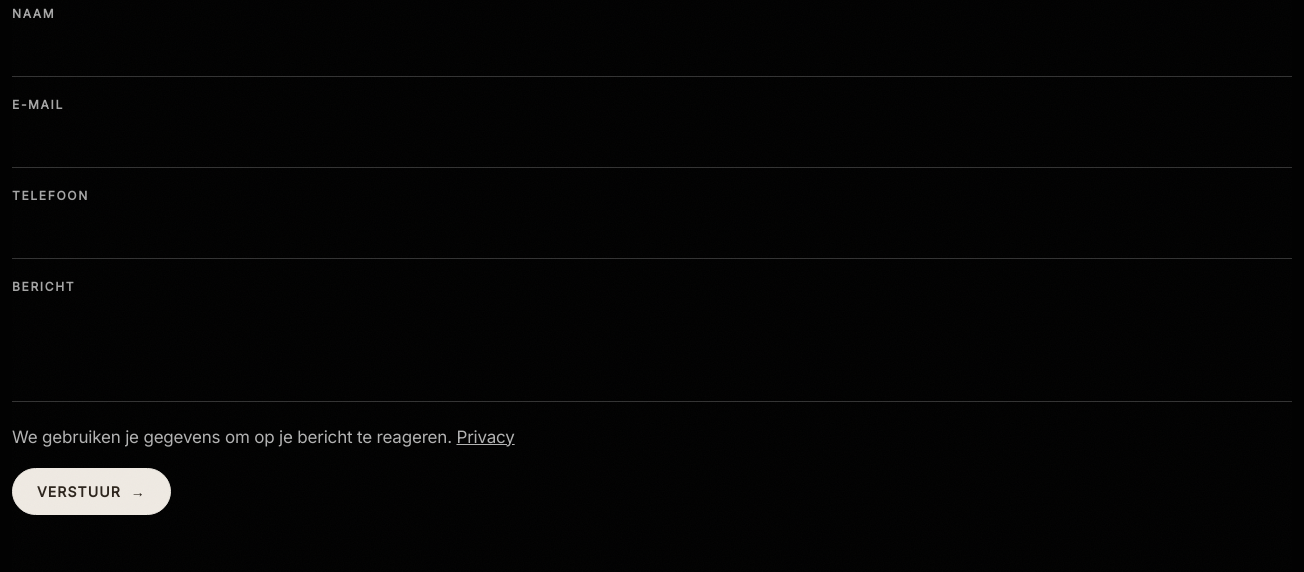
Test case: preserves the entered message and shows an error when delivery fails
Type "Test" into the field labelled "Naam". click: (652, 55)
box: x1=12 y1=34 x2=1292 y2=77
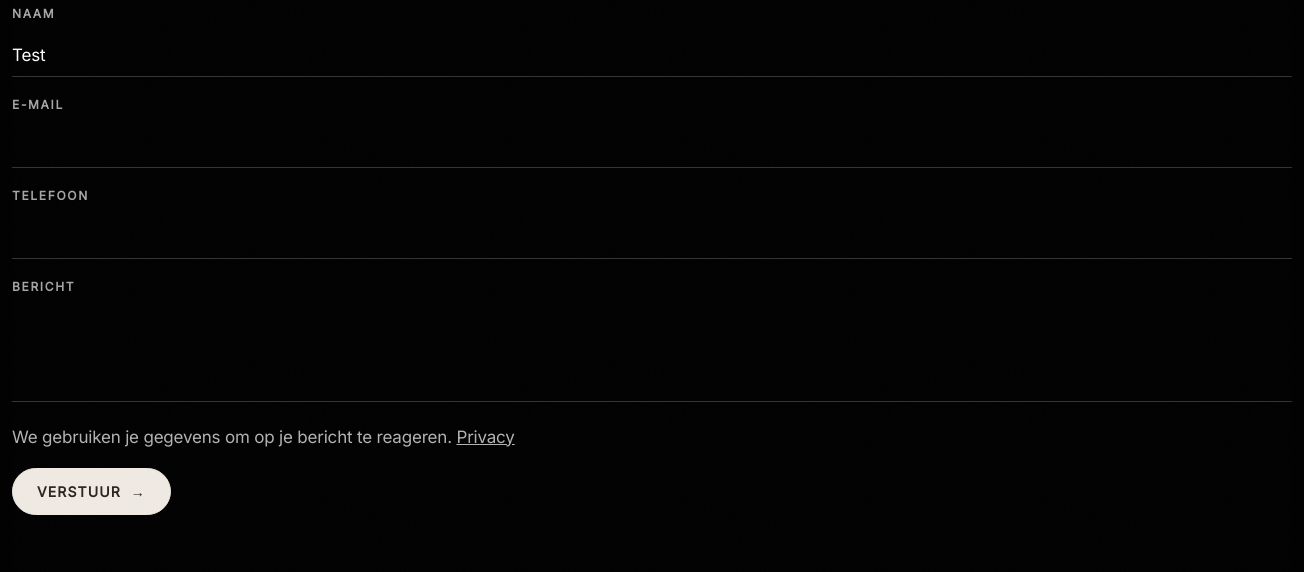
Type "test@example.com" into the field labelled "E-mail". click: (652, 146)
box: x1=12 y1=124 x2=1292 y2=168
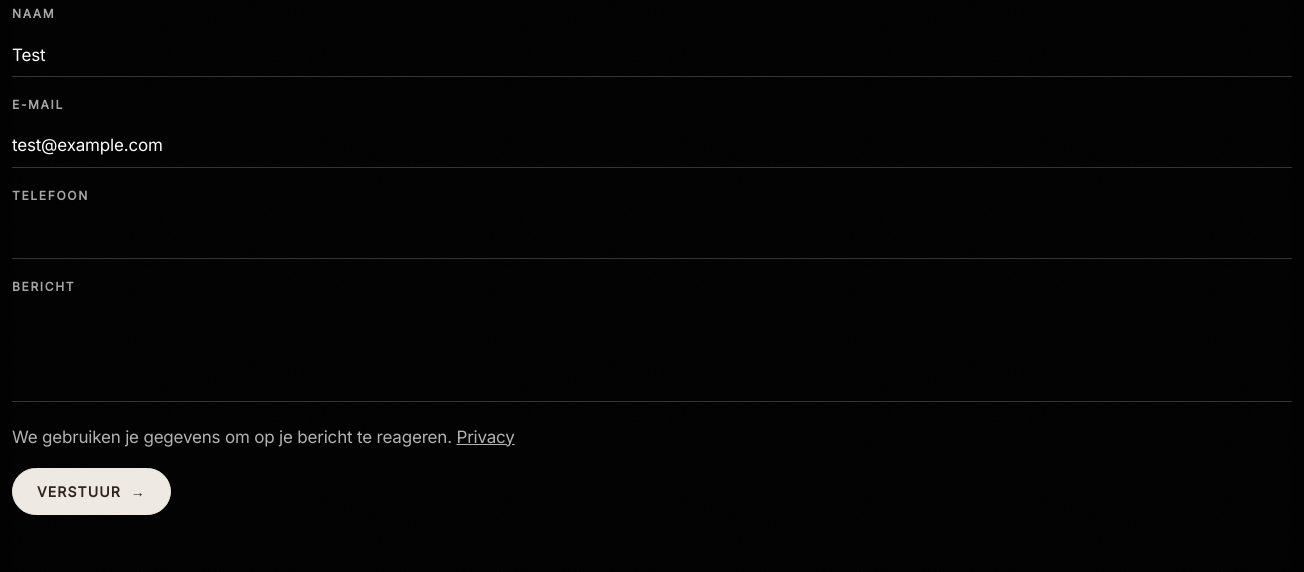
Type "Vraag over openingstijden" into the text box labelled "Bericht". click: (652, 354)
box: x1=12 y1=306 x2=1292 y2=402
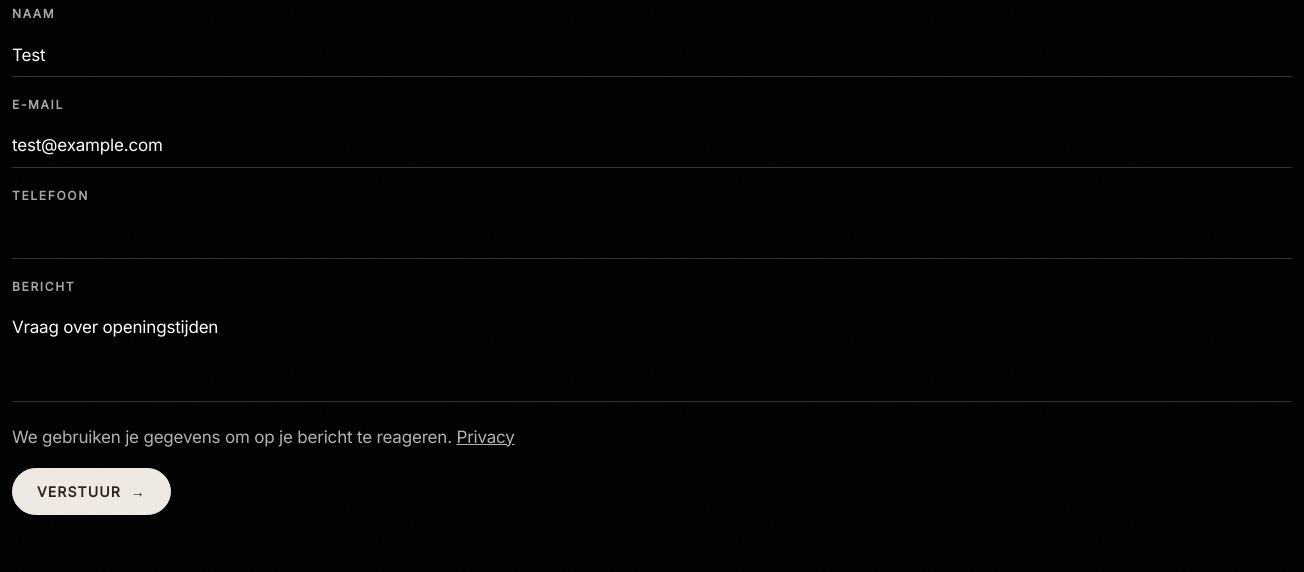
Submit the form named "Verstuur"
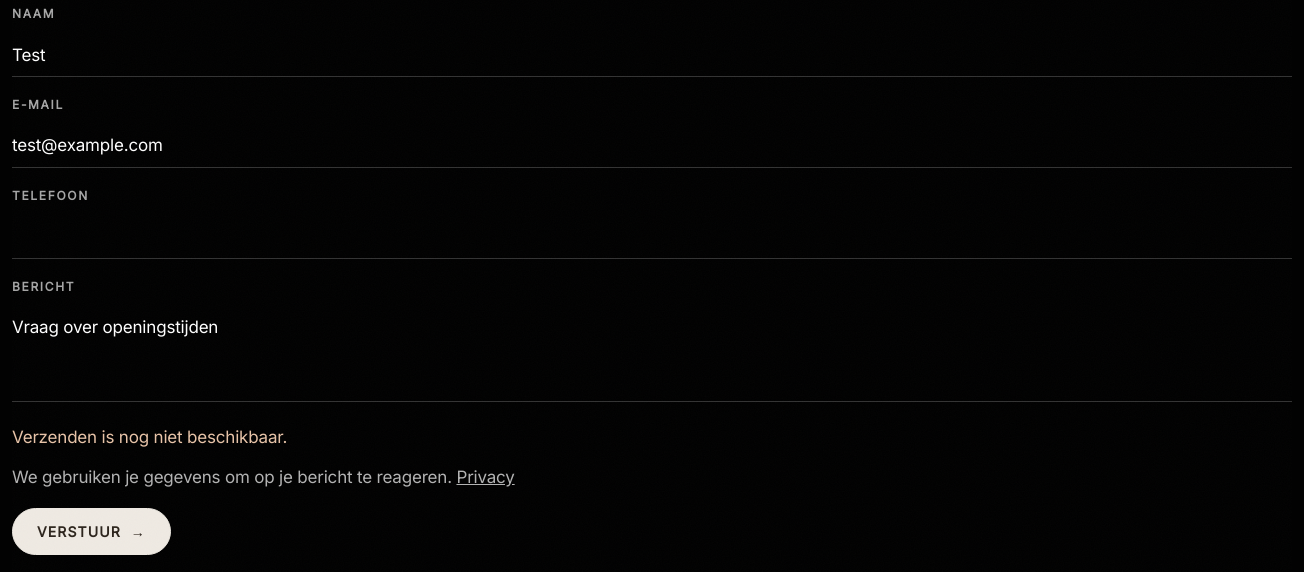
Expected: the message "Verzenden is nog niet beschikbaar." is shown, x1=12 y1=427 x2=287 y2=447
